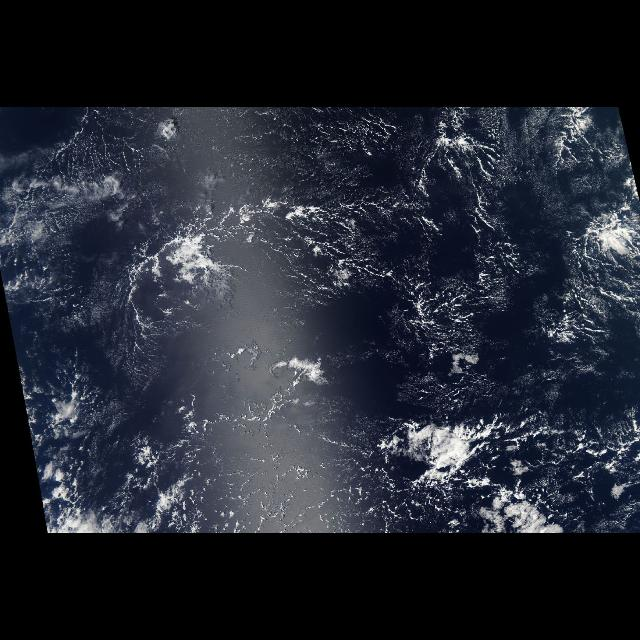Gravel: (317, 405, 639, 533), (93, 186, 365, 334), (564, 131, 640, 307)
Sugar: (29, 108, 548, 368), (154, 384, 390, 490)
